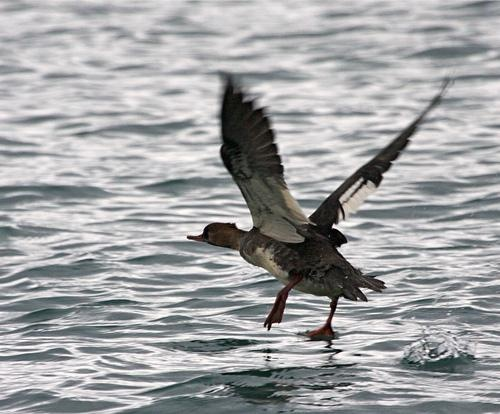bird: (188, 68, 451, 338)
